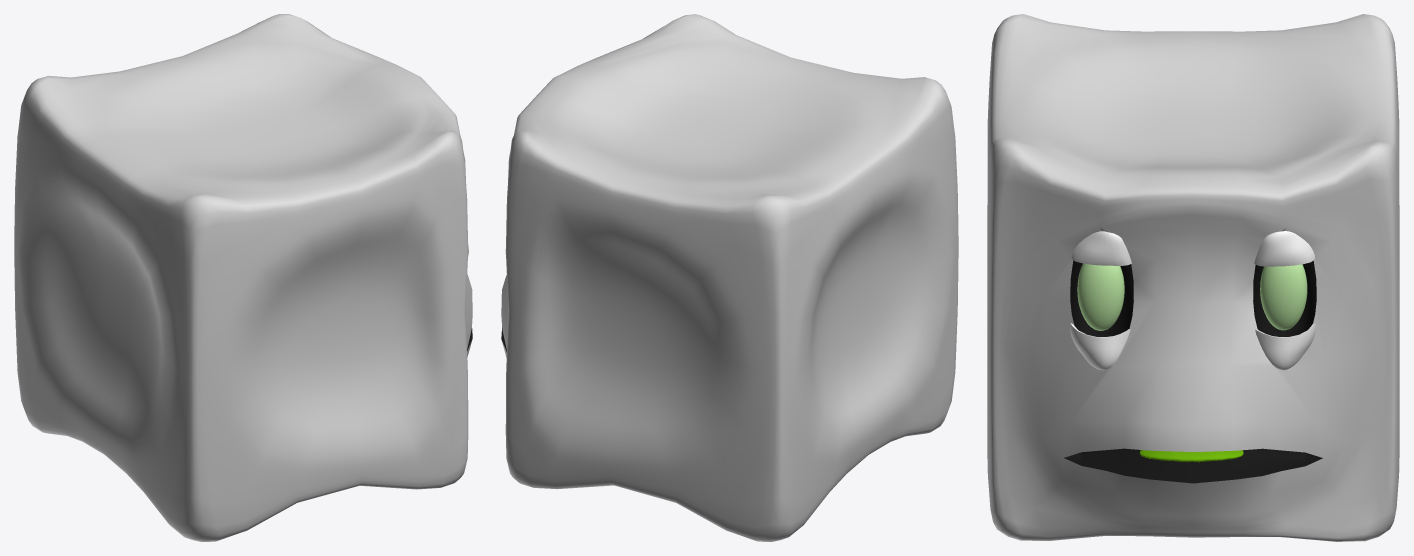
File: Slime Character export.fbx
3 views of the same model, side by side, from view 1: azimuth 30°, elevation 25°; view 2: azimuth 150°, elevation 25°; view 3: azimuth 270°, elevation 25° (orthographic). The views are drawn at different scales.
Parts seen in each view (by area): view 1: pCube19; view 2: pCube19; view 3: pCube19, pSphere31, pSphere32, pSphere33, pSphere34, pCube20.
Part boxes in pixels (<box>): pCube19: <box>14,14,472,541</box>; pCube19: <box>501,14,958,541</box>; pCube19: <box>987,14,1399,541</box>; pSphere31: <box>1071,231,1315,266</box>; pSphere32: <box>1070,323,1315,370</box>; pSphere33: <box>1077,263,1124,330</box>; pSphere34: <box>1260,264,1307,330</box>; pCube20: <box>1139,450,1243,462</box>.
Size of the model in its own units: 1.65 by 1.52 by 1.45.
